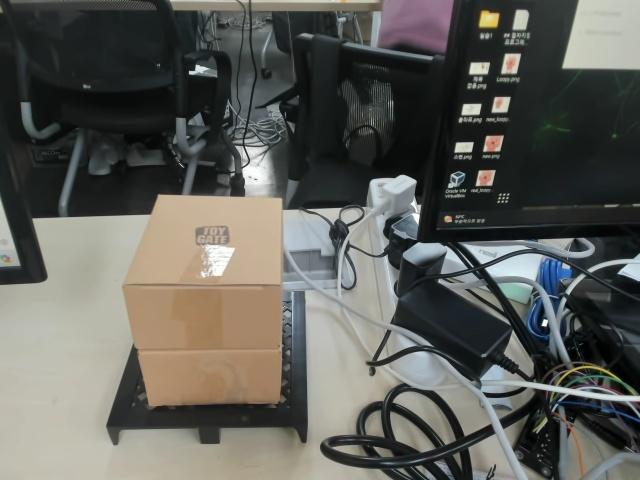box: (106, 193, 309, 444)
